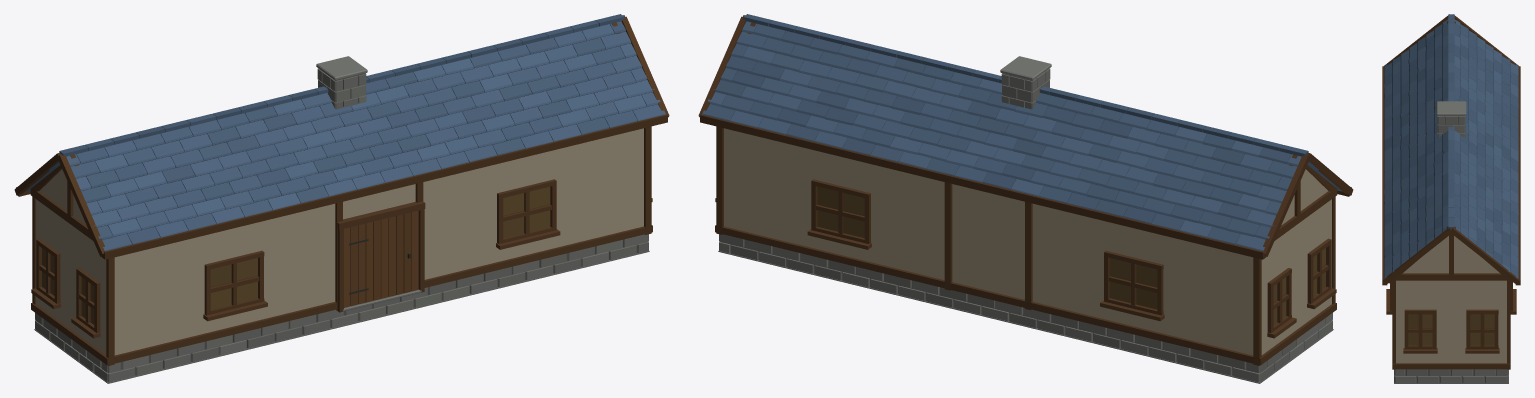
Rendered from schoolhouse-reference-v1.glb.
The picture shows the model from 3 angles, left to right: view 1: azimuth 30°, elevation 25°; view 2: azimuth 150°, elevation 25°; view 3: azimuth 270°, elevation 25°; orthographic projection. The views are drawn at different scales.
Visible parts, largest first — view 1: GEO-schoolhouse-reference-v1; view 2: GEO-schoolhouse-reference-v1; view 3: GEO-schoolhouse-reference-v1.
Part boxes in pixels (x1=…): GEO-schoolhouse-reference-v1: x1=14, y1=14, x2=669, y2=383; GEO-schoolhouse-reference-v1: x1=698, y1=14, x2=1353, y2=383; GEO-schoolhouse-reference-v1: x1=1382, y1=14, x2=1520, y2=383.
Size of the model in its own units: 6.51 by 2.46 by 1.77.
